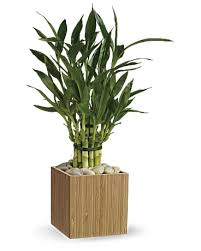bamboo: (16, 5, 176, 162)
